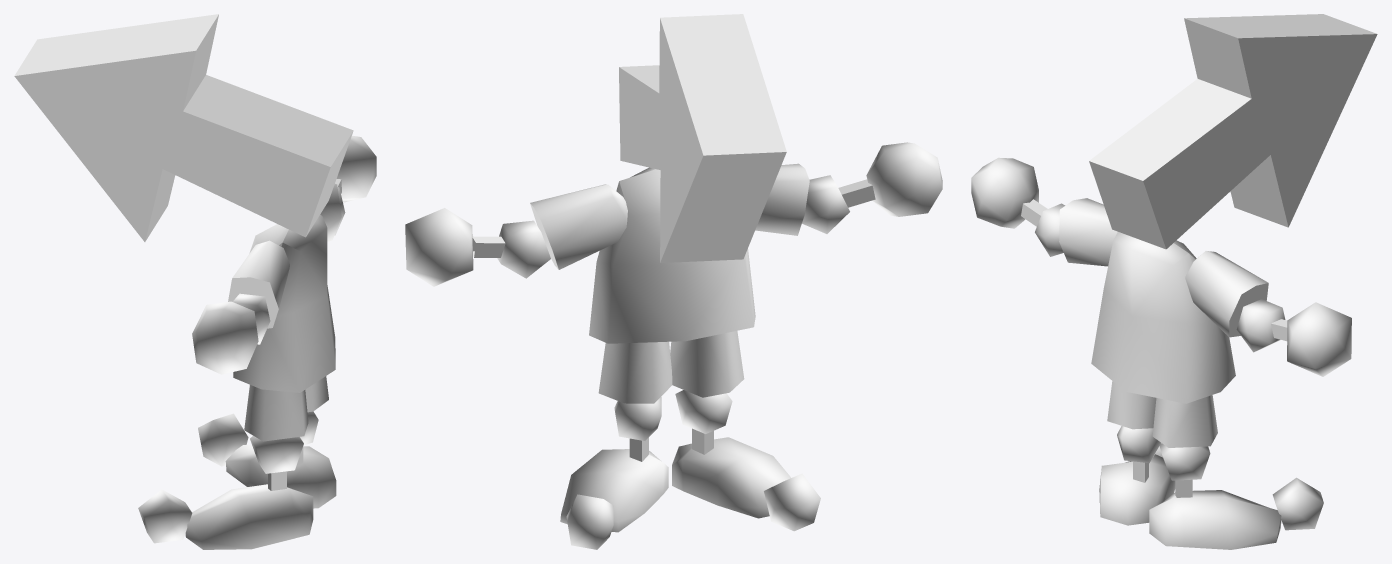
File: SGR4IC_D.SGR.obj
The picture shows the model from 3 angles, left to right: view 1: azimuth 30°, elevation 25°; view 2: azimuth 150°, elevation 25°; view 3: azimuth 270°, elevation 25°; orthographic projection. The views are drawn at different scales.
Size of the model in its own units: 3.69 by 4.68 by 3.67.
Materials: 1 (1 with a texture image).
